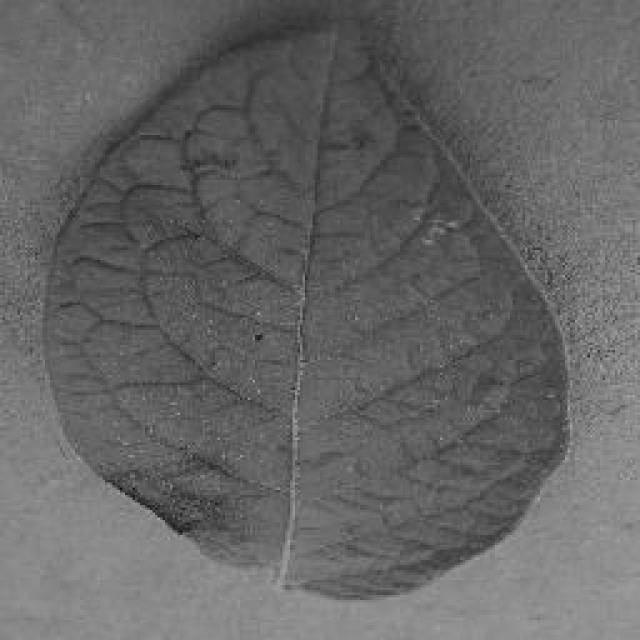Potato: (40, 15, 572, 600)
